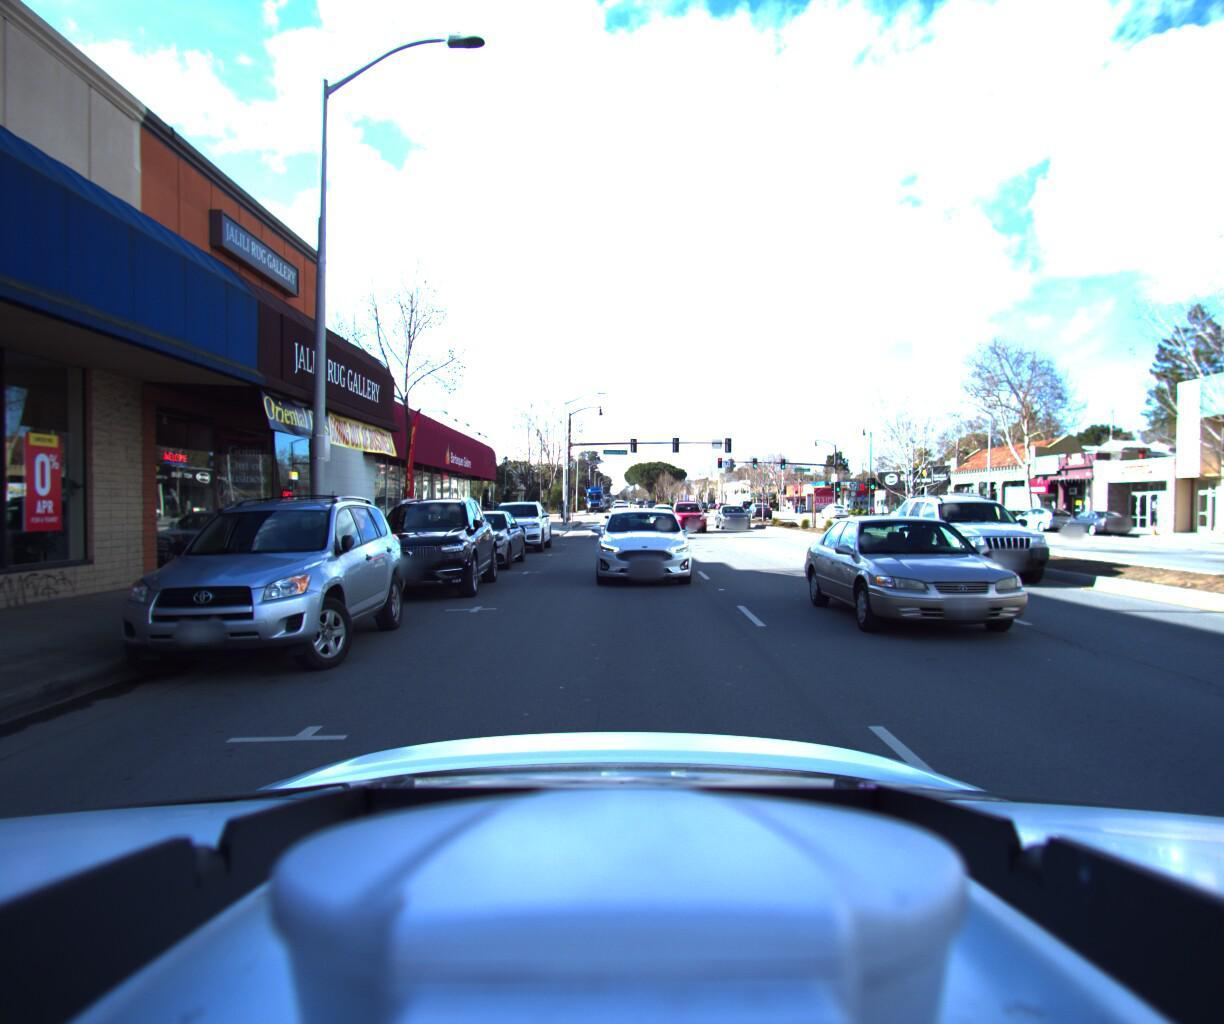car: (84, 491, 416, 702), (815, 497, 1136, 670), (904, 493, 1112, 601), (351, 495, 500, 610), (596, 508, 699, 594), (431, 513, 528, 578), (482, 503, 553, 557), (932, 487, 985, 528), (1057, 513, 1136, 540), (1007, 508, 1077, 535), (669, 502, 714, 536), (713, 501, 757, 532), (883, 507, 930, 526), (745, 504, 775, 521), (817, 504, 846, 521)
